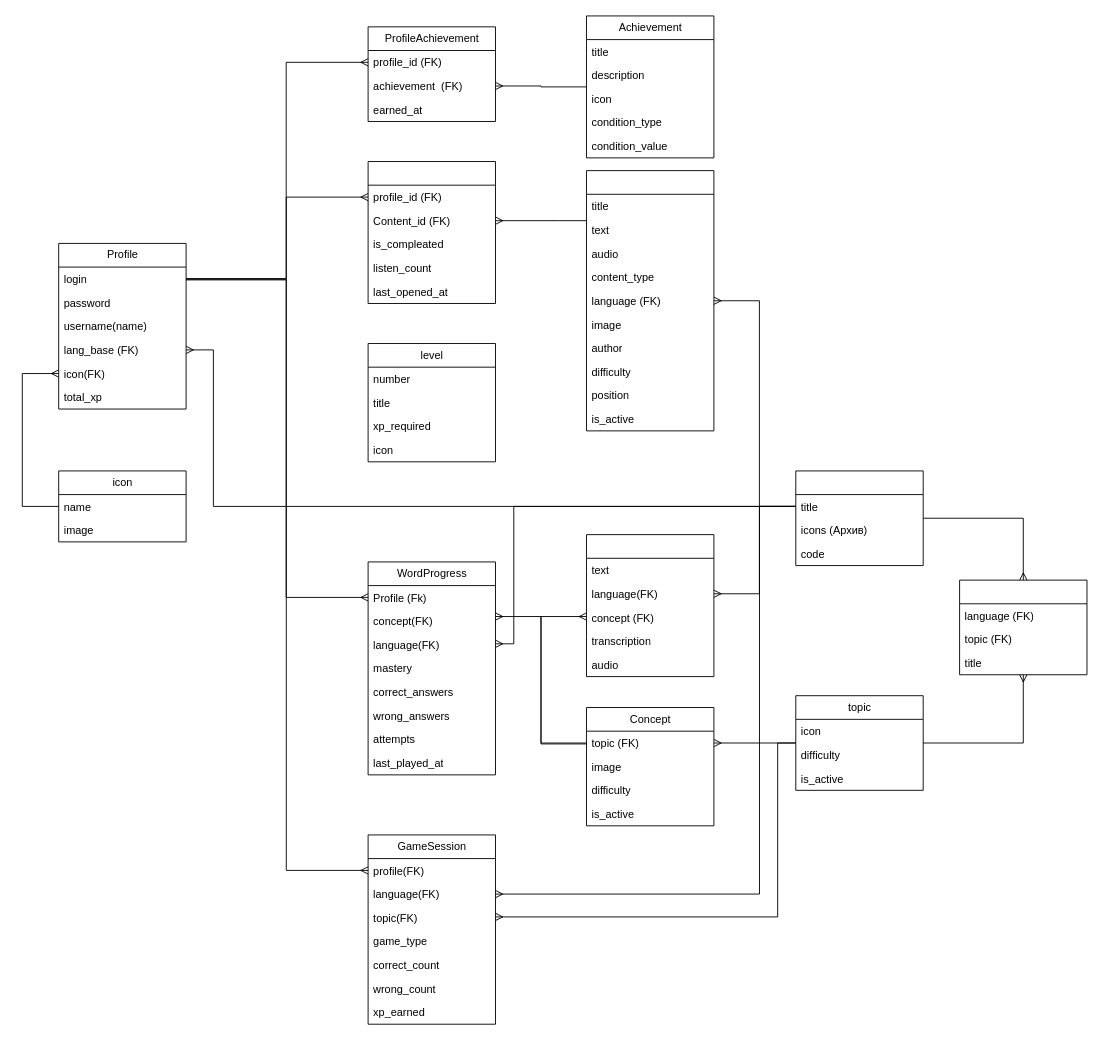
Image size: 1103x1043. Some labels were removed from this diagram. The shapes that lost their labels are listed below. From the top down, each one's box as (x1, y1, x2, y2) in pixels, then its label:
(367, 161, 495, 303): ProfileContentProgress
(586, 170, 714, 431): LiteraryContent
(795, 470, 923, 566): language
(586, 534, 714, 677): Word
(959, 579, 1087, 675): TopicTranslation
